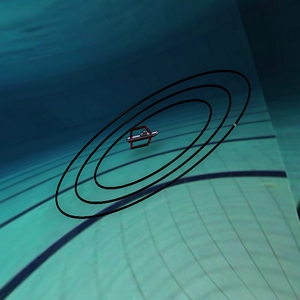circle: (45, 60, 258, 240)
submarine: (118, 113, 165, 162)
